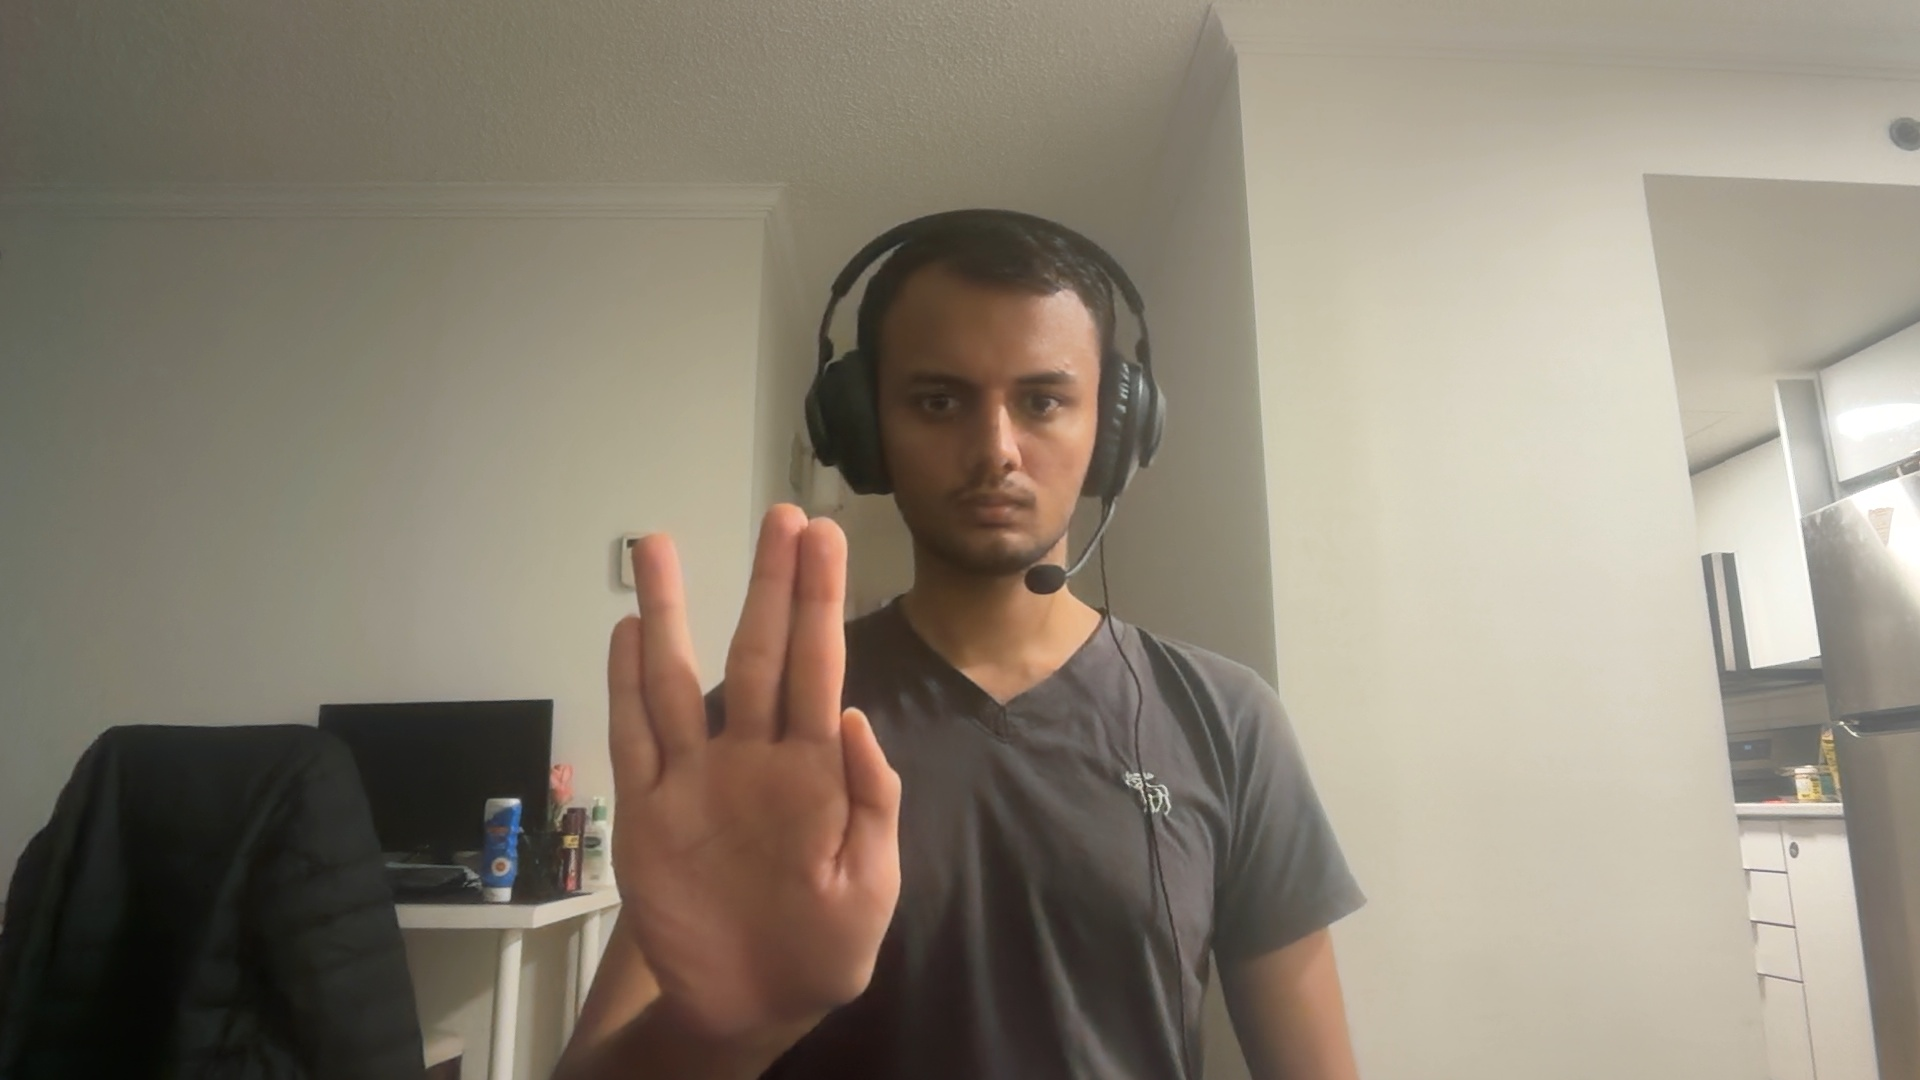livelong: (608, 502, 905, 1035)
